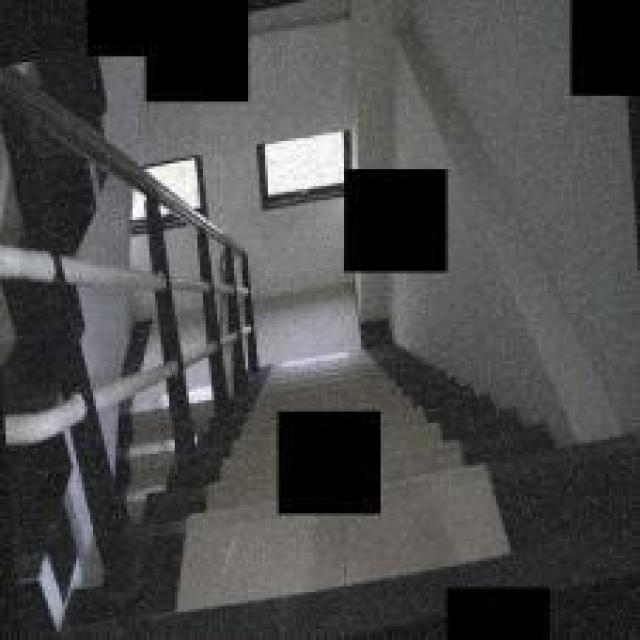downstair: (258, 368, 413, 407)
